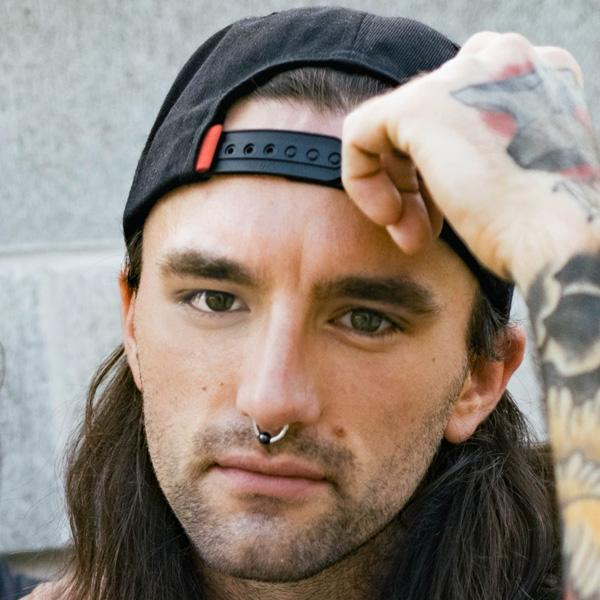Eyes: (312, 296, 415, 355), (169, 279, 256, 329)
